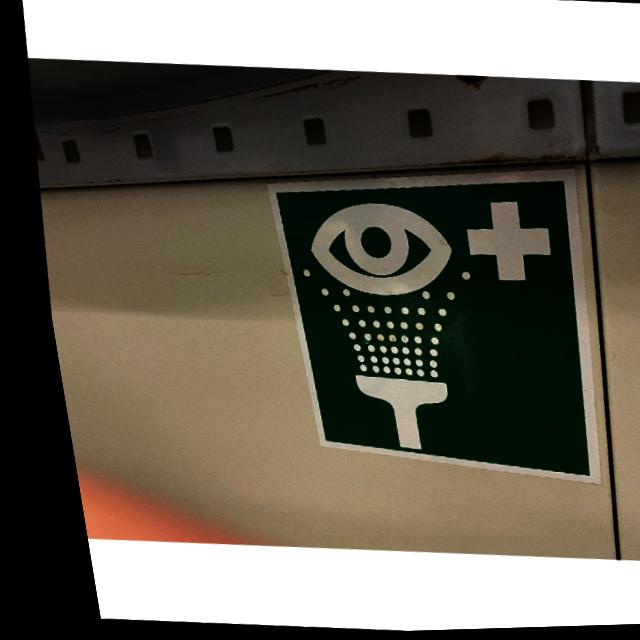eye shower: (235, 149, 605, 495)
